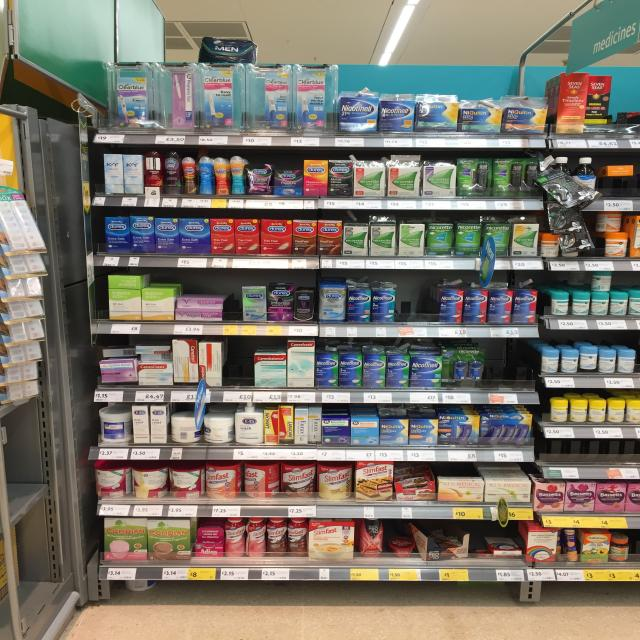void: (400, 278, 437, 338), (492, 346, 528, 405), (226, 346, 252, 404)
